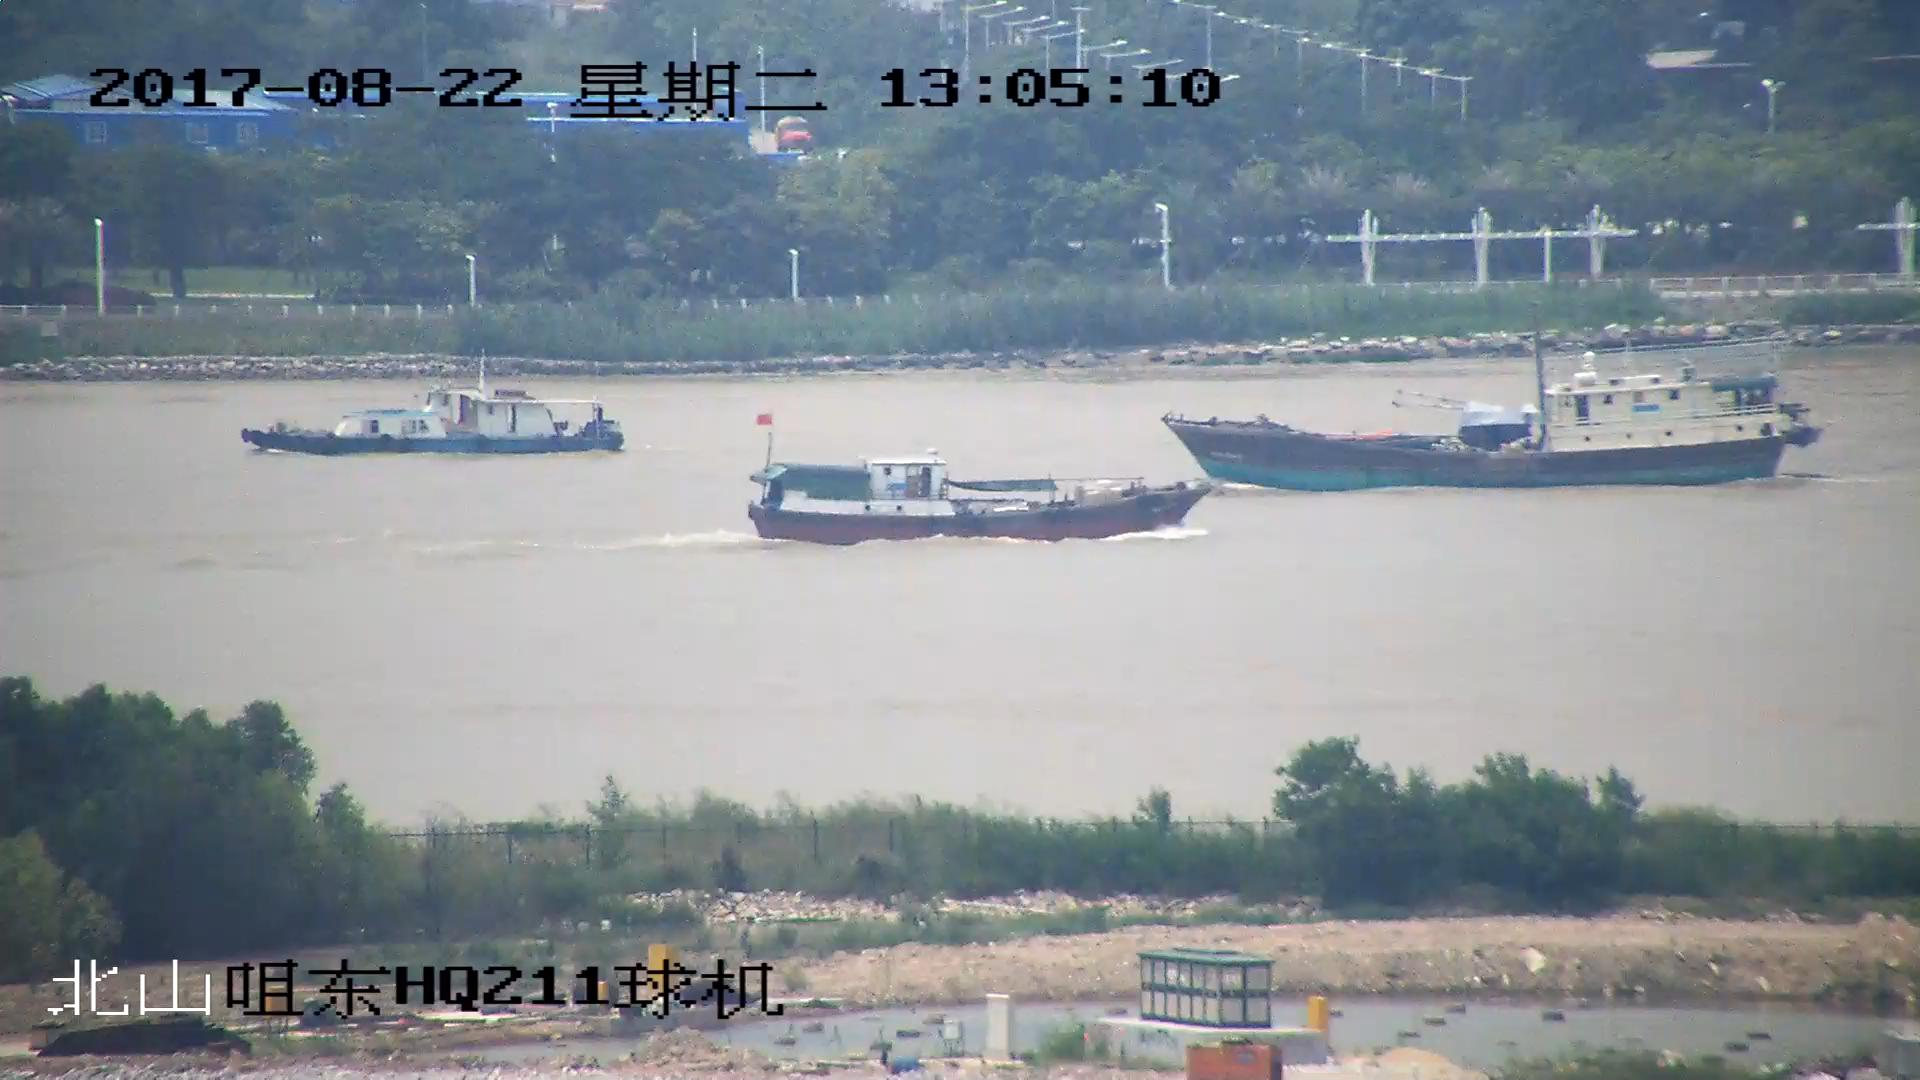fishing boat: (1168, 329, 1814, 495), (746, 416, 1206, 544), (246, 358, 625, 459)
